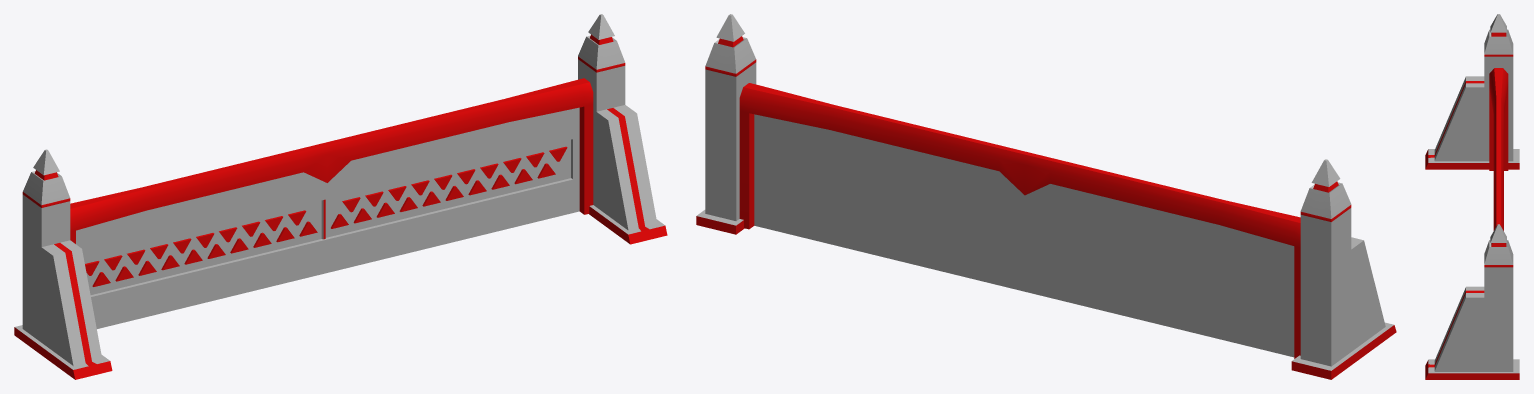
File: gate.fbx
3 renders of one model, left to right at view 1: azimuth 30°, elevation 25°; view 2: azimuth 150°, elevation 25°; view 3: azimuth 270°, elevation 25°, orthographic. The views are drawn at different scales.
Visible parts, largest first — view 1: gate, gate_r, gate_l; view 2: gate, gate_r, gate_l; view 3: gate_l, gate_r, gate.
Boxes of the visible parts, x1=… form: gate: x1=70, y1=78, x2=593, y2=328; gate_r: x1=14, y1=149, x2=112, y2=379; gate_l: x1=578, y1=14, x2=667, y2=244; gate: x1=739, y1=83, x2=1300, y2=358; gate_r: x1=1291, y1=159, x2=1396, y2=379; gate_l: x1=696, y1=14, x2=756, y2=234; gate_l: x1=1425, y1=224, x2=1519, y2=379; gate_r: x1=1425, y1=14, x2=1519, y2=169; gate: x1=1489, y1=68, x2=1508, y2=230.
Bounding box in the file's own units: 51.47 × 15.83 × 9.16.
